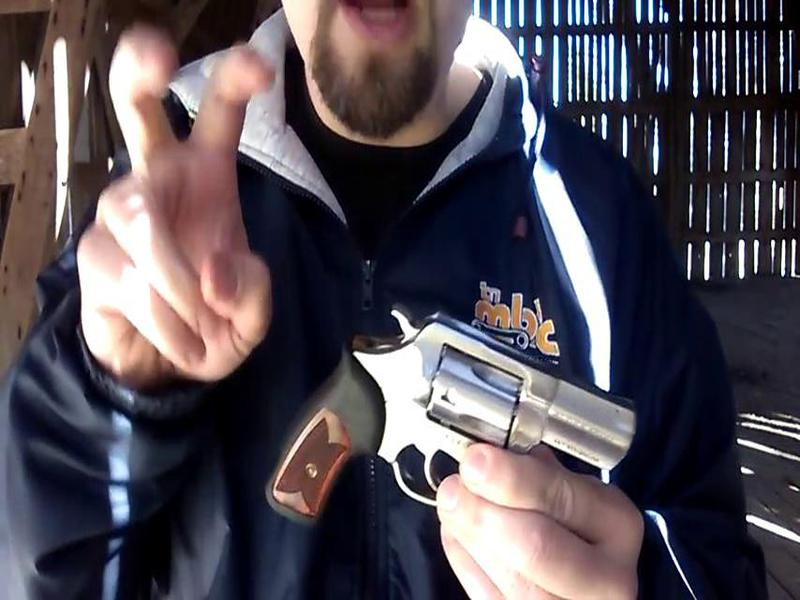Revolver: (285, 287, 649, 519)
